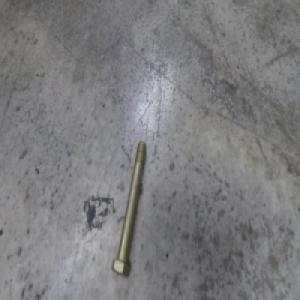Bolt: (112, 137, 147, 276)
